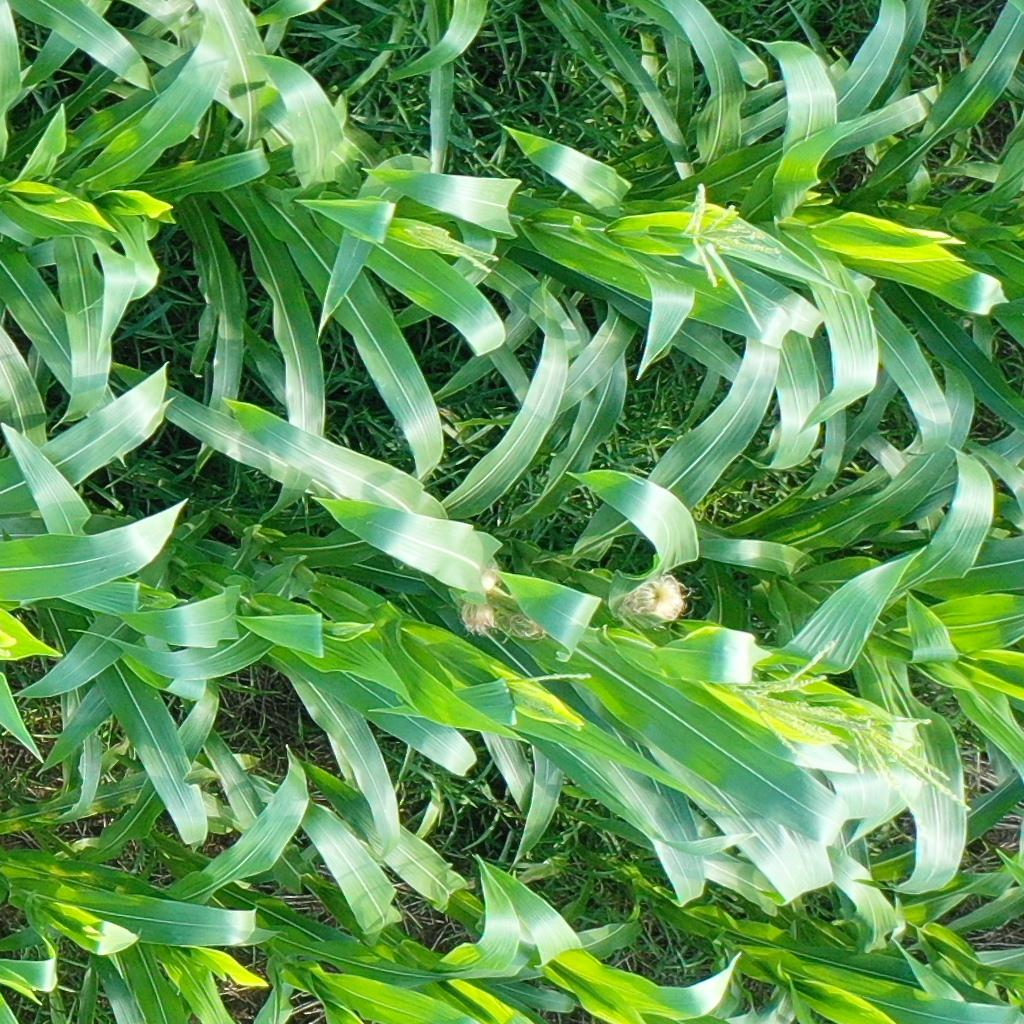Tassel: (724, 637, 873, 762), (833, 703, 975, 813), (673, 178, 781, 285), (500, 662, 597, 737), (408, 218, 500, 266)
